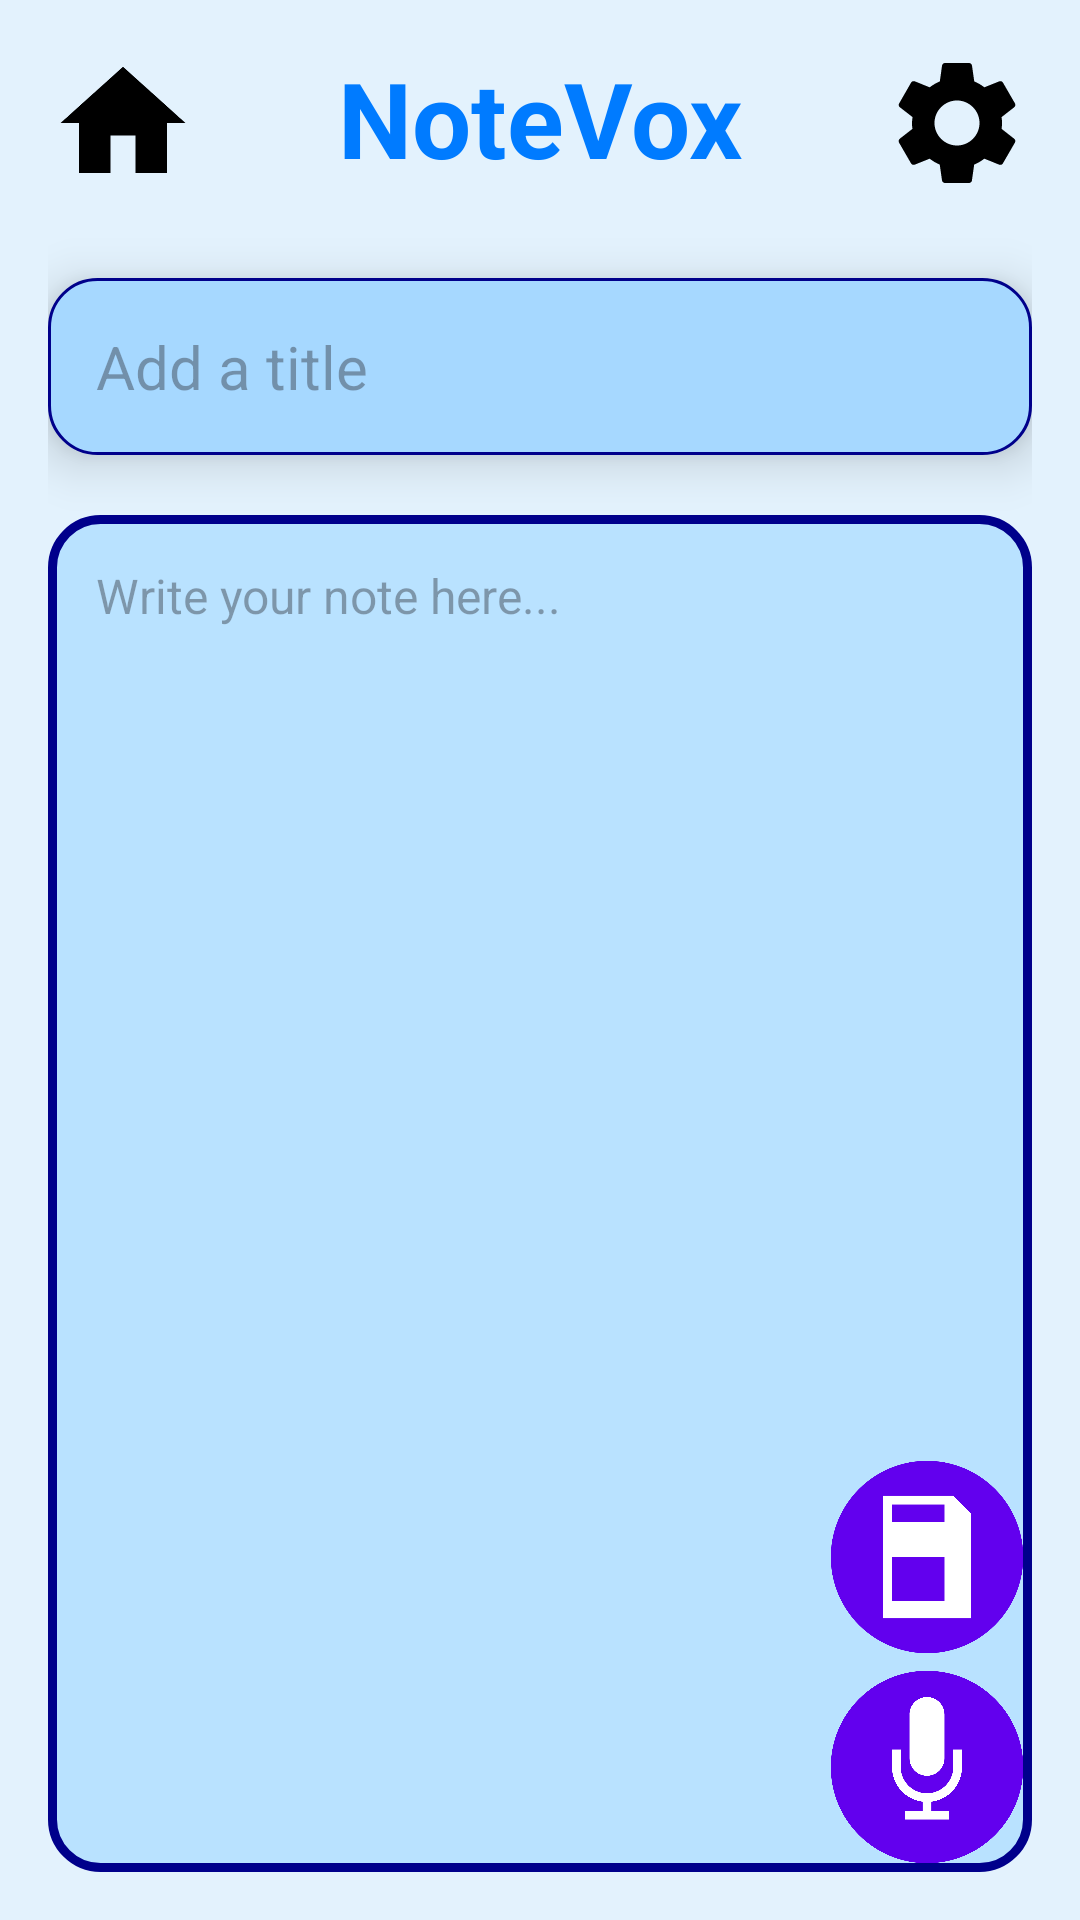

Screen size 1080px x 1920px. Icon name, then its center in pixels as point (x, y):
Go to the home page: point (123, 120)
Go to the setting page: point (957, 123)
microphone circle: point (927, 1767)
save circle: point (931, 1557)
